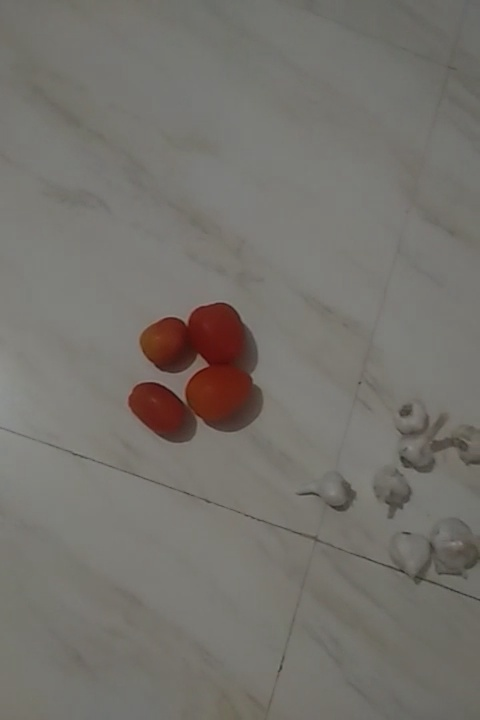garlic: (431, 515, 474, 577), (387, 532, 431, 586), (393, 398, 442, 439), (304, 473, 350, 513), (373, 469, 413, 512), (400, 432, 440, 471), (446, 424, 480, 465)
tomato: (189, 364, 262, 424), (189, 297, 250, 365), (130, 380, 194, 444), (138, 322, 193, 369)
